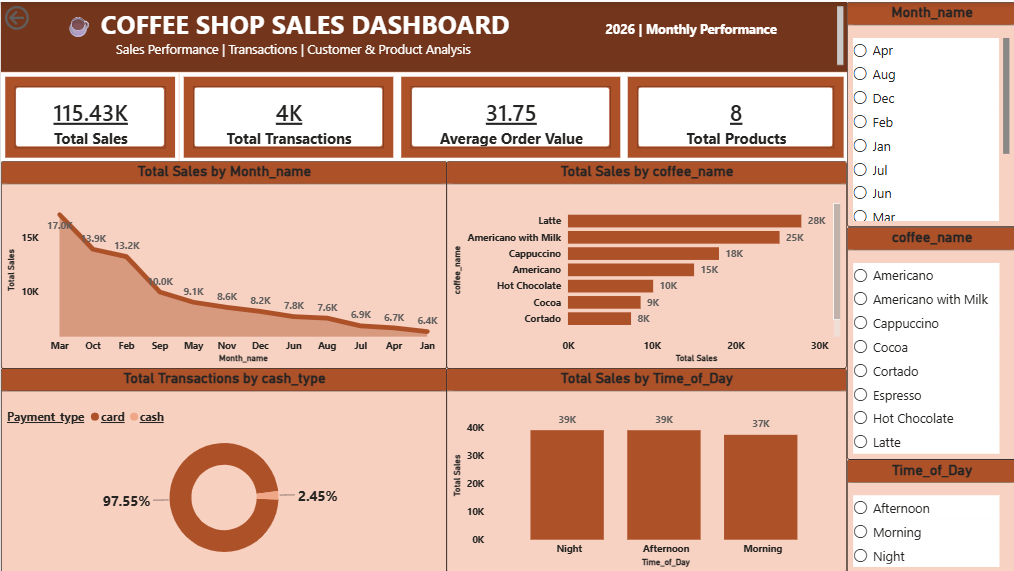

The page's visual inventory and layout, read from the dashboard file:
{"tool":"powerbi","page":{"name":"Page 1","canvas":[1280,720],"ordinal":0},"visuals":[{"type":"textbox","box":[0,0,1066,88],"z":0},{"type":"actionButton","box":[0,0,100,40],"z":1000},{"type":"cardVisual","fields":{"Data":["Table_1.Average Order Value"]},"box":[498,88,286,112],"z":2000},{"type":"cardVisual","fields":{"Data":["Table_1.Total Sales"]},"box":[0,88,224,112],"z":3000},{"type":"cardVisual","fields":{"Data":["Table_1.Total Transactions"]},"box":[224,88,274,112],"z":4000},{"type":"cardVisual","fields":{"Data":["Table_1.Total Products"]},"box":[784,88,282,112],"z":5000},{"type":"lineChart","fields":{"Y":["Table_1.Total Sales"],"Category":["Table_1.Month_name"]},"box":[0,200,562,262],"z":6000},{"type":"barChart","fields":{"Category":["Table_1.coffee_name"],"Y":["Table_1.Total Sales"]},"box":[562,200,504,262],"z":7000},{"type":"donutChart","fields":{"Category":["Table_1.cash_type"],"Y":["Table_1.Total Transactions"]},"box":[0,462,562,258],"z":8000},{"type":"clusteredColumnChart","fields":{"Y":["Table_1.Total Sales"],"Category":["Table_1.Time_of_Day"]},"box":[562,462,504,258],"z":9000},{"type":"listSlicer","fields":{"Values":["Table_1.Month_name"]},"box":[1066.7,0,213.3,283.3],"z":10000},{"type":"listSlicer","fields":{"Values":["Table_1.coffee_name"]},"box":[1066.7,283.3,213.3,293.3],"z":11000},{"type":"listSlicer","fields":{"Values":["Table_1.Time_of_Day"]},"box":[1065,576.7,213.3,143.3],"z":12000}]}

Visuals, with their boxes in screenshot pixels (x1, y1, x2, y2), scaled from the page's 1280x720 canvas onto the 1014x571 screenshot:
textbox: locate(0, 0, 844, 70)
actionButton: locate(0, 0, 79, 32)
cardVisual - Table_1.Average Order Value: locate(395, 70, 621, 159)
cardVisual - Table_1.Total Sales: locate(0, 70, 177, 159)
cardVisual - Table_1.Total Transactions: locate(177, 70, 395, 159)
cardVisual - Table_1.Total Products: locate(621, 70, 844, 159)
lineChart - Table_1.Total Sales x Table_1.Month_name: locate(0, 159, 445, 366)
barChart - Table_1.coffee_name x Table_1.Total Sales: locate(445, 159, 844, 366)
donutChart - Table_1.cash_type x Table_1.Total Transactions: locate(0, 366, 445, 570)
clusteredColumnChart - Table_1.Total Sales x Table_1.Time_of_Day: locate(445, 366, 844, 570)
listSlicer - Table_1.Month_name: locate(845, 0, 1013, 225)
listSlicer - Table_1.coffee_name: locate(845, 225, 1013, 457)
listSlicer - Table_1.Time_of_Day: locate(844, 457, 1013, 570)
